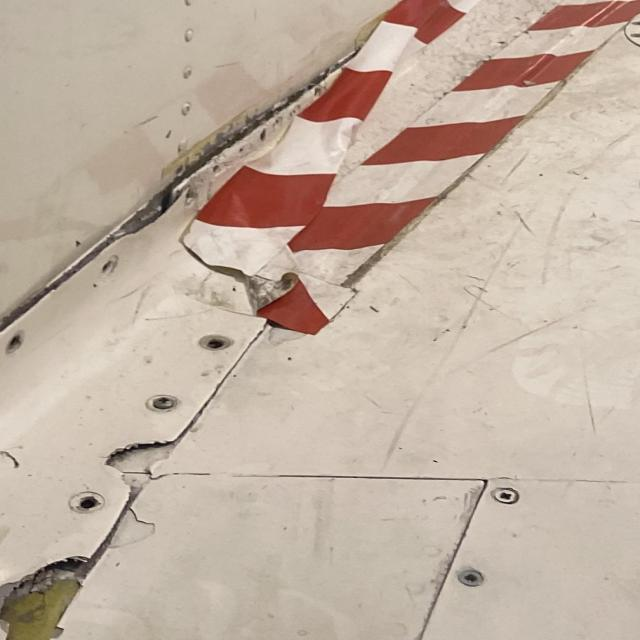Crack: (44, 42, 365, 292), (0, 269, 90, 365), (0, 561, 91, 640), (107, 444, 176, 496)
Missing-head: (71, 495, 104, 516), (198, 334, 234, 352), (5, 333, 25, 355)
Paint-off: (109, 510, 155, 550), (261, 325, 315, 345)
